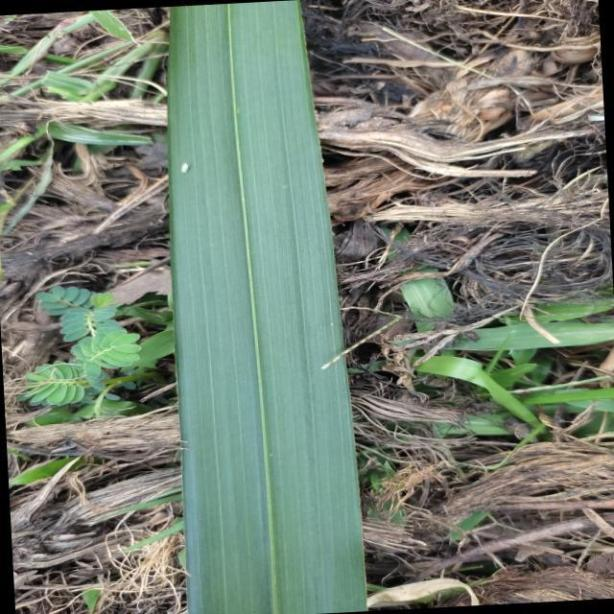Healthy: (164, 1, 366, 614)
